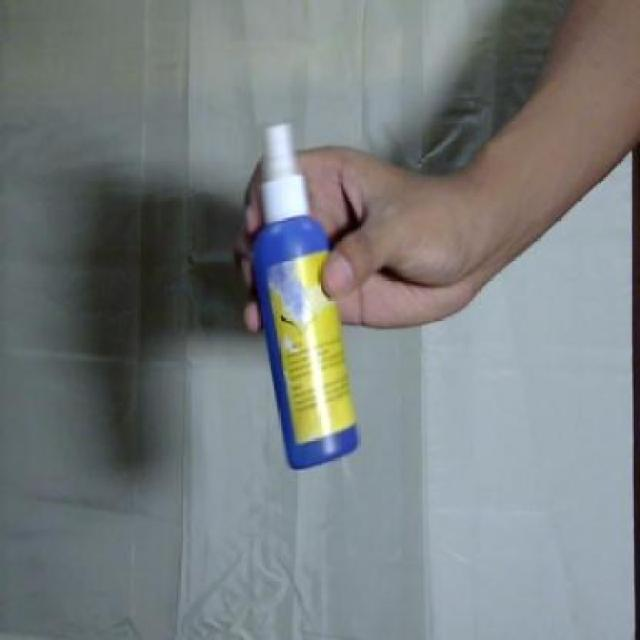Plastic: (253, 123, 361, 472)
